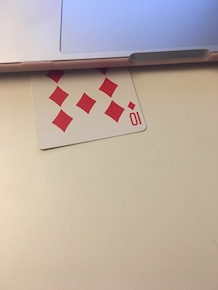TenOfDiamonds: (28, 63, 150, 155)
